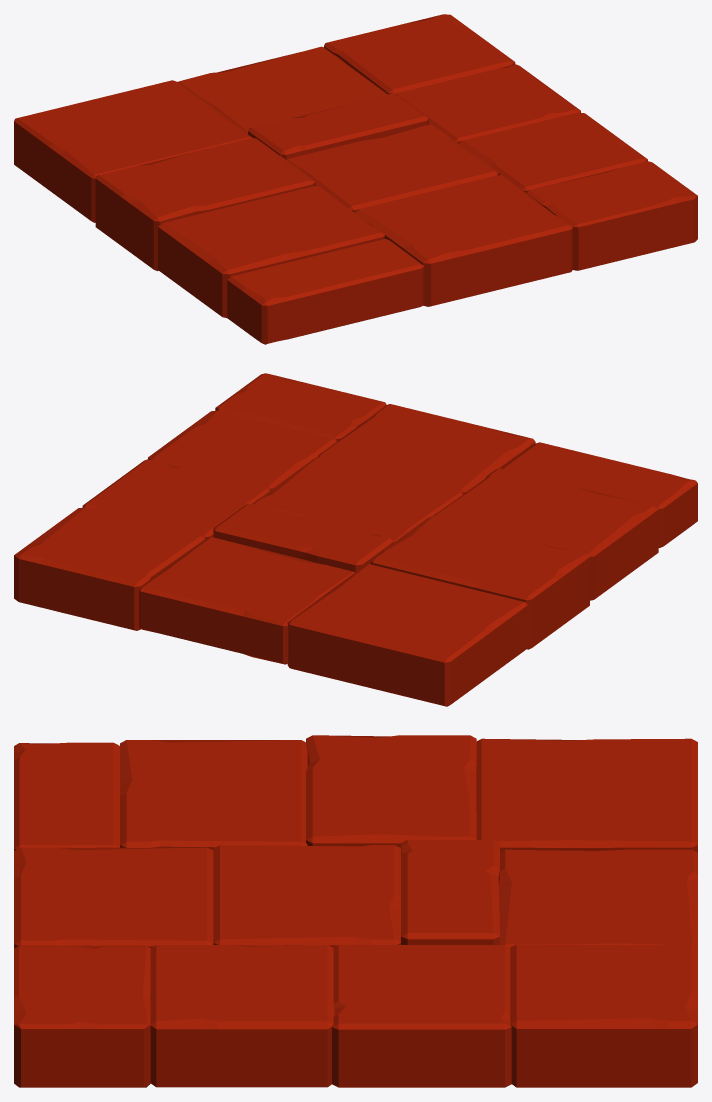
File: Floor_Modular.glb
3 renders of one model, top to bottom at view 1: azimuth 30°, elevation 25°; view 2: azimuth 150°, elevation 25°; view 3: azimuth 270°, elevation 25°, orthographic. The views are drawn at different scales.
Parts seen in each view (by area): view 1: Floor_Modular; view 2: Floor_Modular; view 3: Floor_Modular.
Boxes of the visible parts, box(x1,y1,x2,y2) form: Floor_Modular: box(14, 14, 697, 344); Floor_Modular: box(14, 373, 697, 706); Floor_Modular: box(14, 735, 697, 1087).
Bounding box in the file's own units: 2 × 0.2503 × 2.
